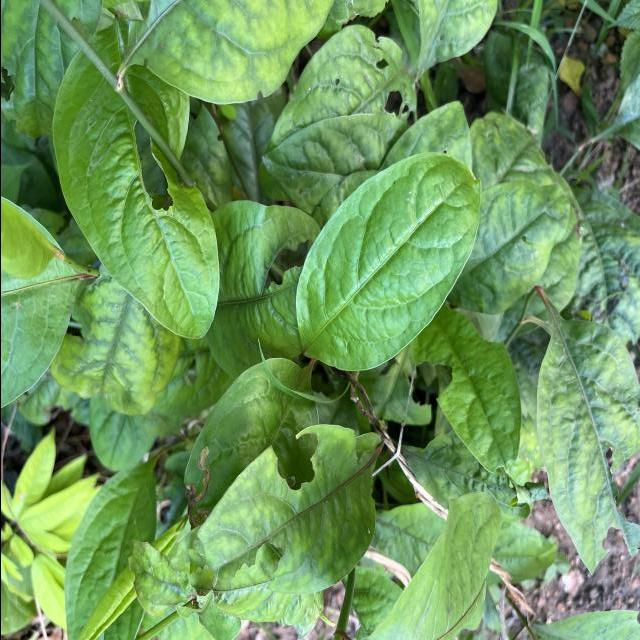Plumbago indica: (46, 21, 221, 346), (292, 148, 482, 373)
